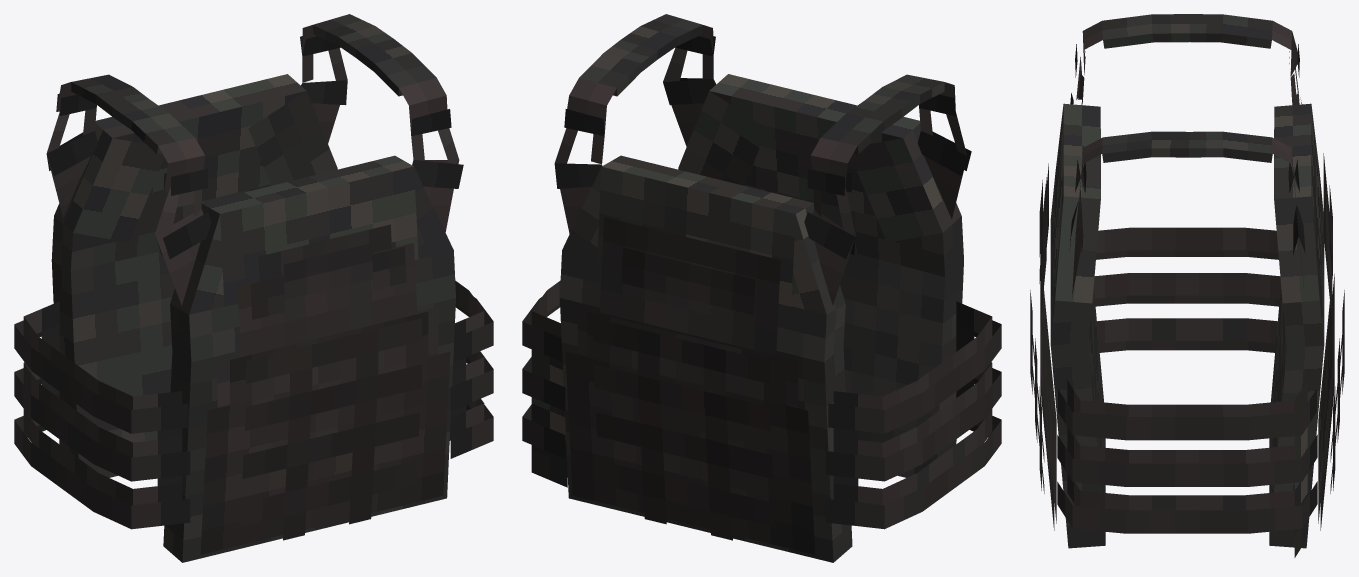
File: plate_bodyarmor.obj
The picture shows the model from 3 angles, left to right: view 1: azimuth 30°, elevation 25°; view 2: azimuth 150°, elevation 25°; view 3: azimuth 270°, elevation 25°; orthographic projection. The views are drawn at different scales.
Visible parts, largest first — view 1: plate_vest; view 2: plate_vest; view 3: plate_vest.
Part boxes in pixels (x1,y1,x2,y2): plate_vest: [14, 14, 493, 562]; plate_vest: [522, 14, 1001, 562]; plate_vest: [1030, 14, 1344, 557].
Size of the model in its own units: 0.5433 by 0.5585 by 0.394.
